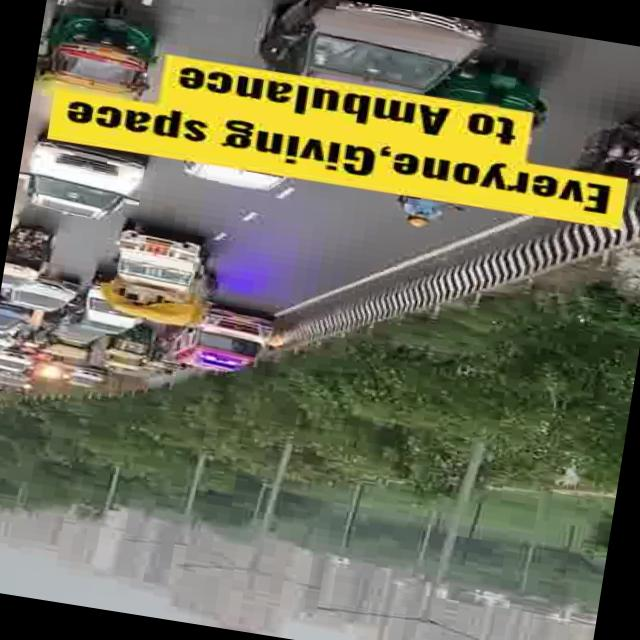ambulance: (171, 310, 280, 384)
